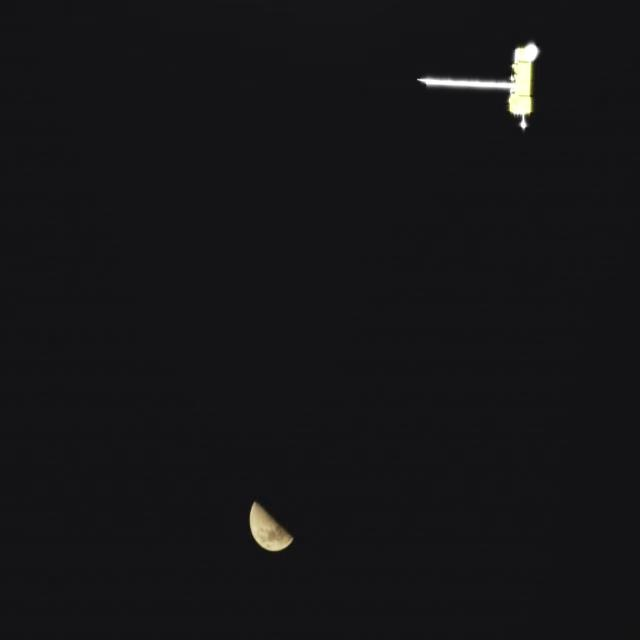medium_debris: (407, 31, 550, 133)
